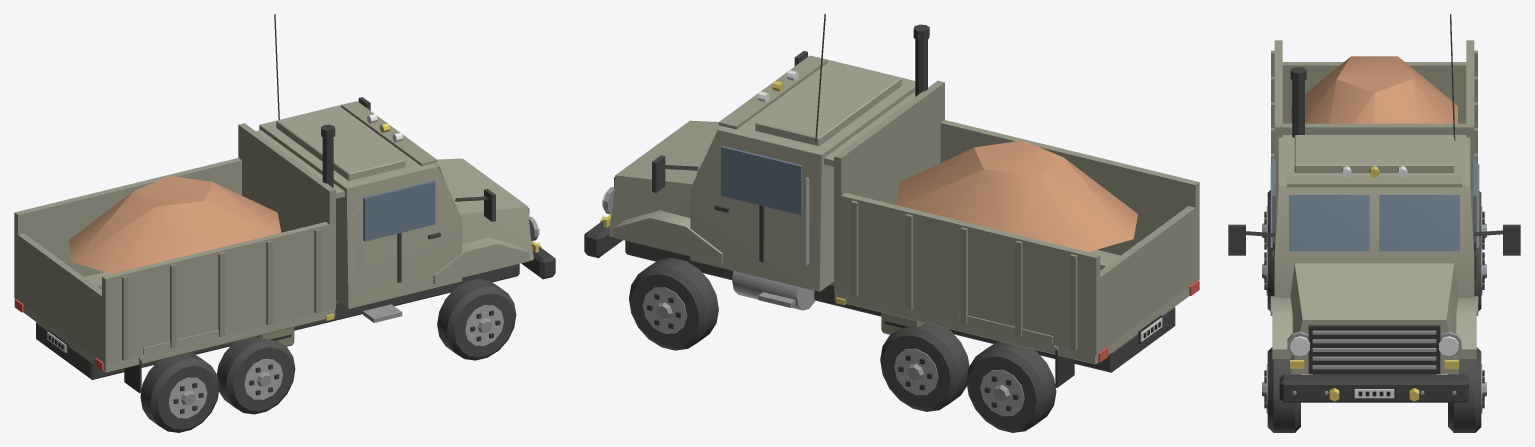
Rendered from bauxtruck.glb.
The picture shows the model from 3 angles, left to right: view 1: azimuth 30°, elevation 25°; view 2: azimuth 150°, elevation 25°; view 3: azimuth 270°, elevation 25°; orthographic projection. The views are drawn at different scales.
Parts seen in each view (by area): view 1: hull, load; view 2: hull, load; view 3: hull, load.
Boxes of the visible parts, box(x1,y1,x2,y2) form: hull: box(14, 14, 555, 432); load: box(68, 175, 281, 273); hull: box(584, 14, 1199, 432); load: box(896, 140, 1137, 251); hull: box(1228, 14, 1520, 432); load: box(1291, 56, 1457, 123).
Bounding box in the file's own units: 7.37 × 4.79 × 3.66.
